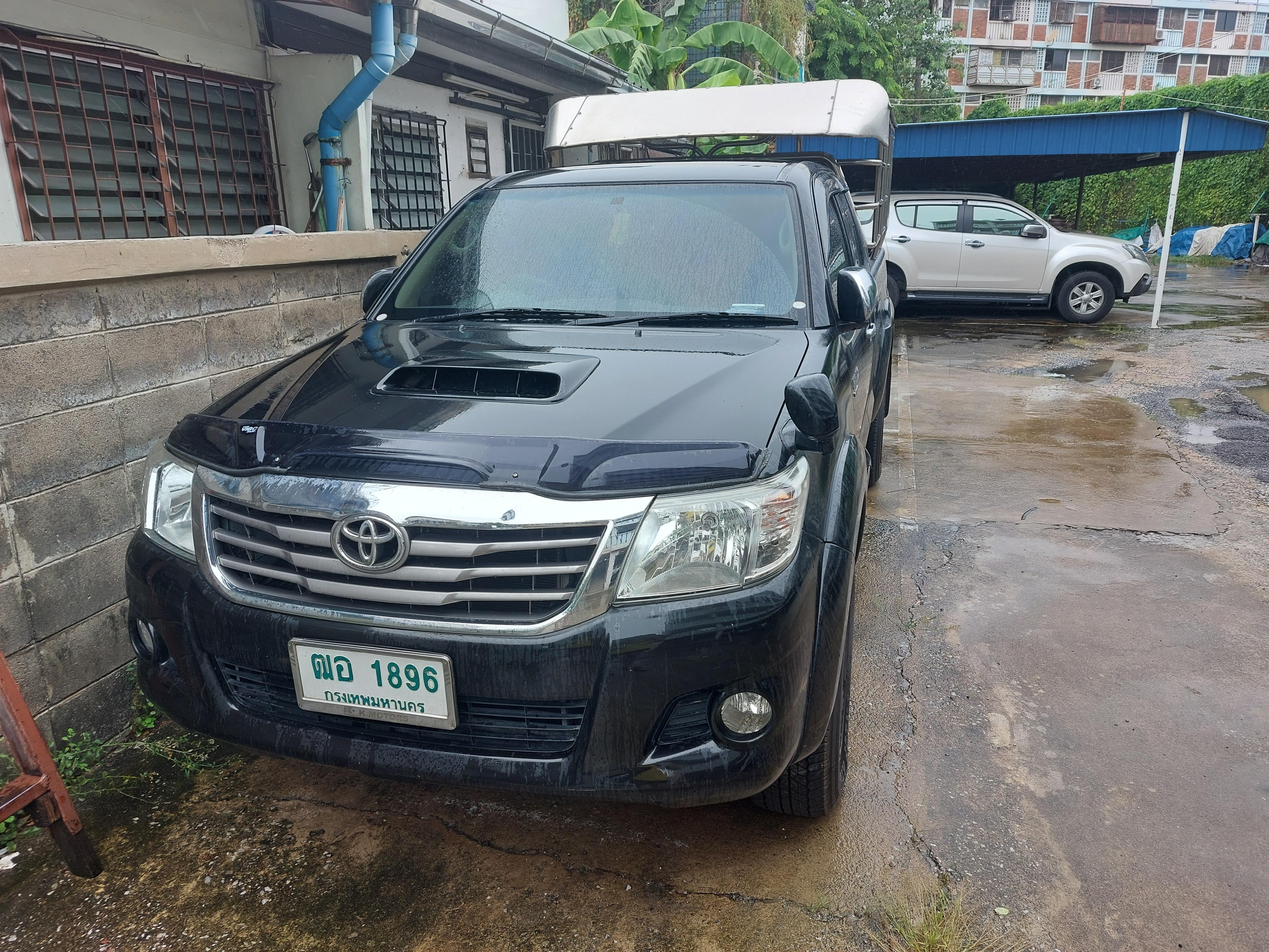license-plate: (287, 633, 461, 732)
